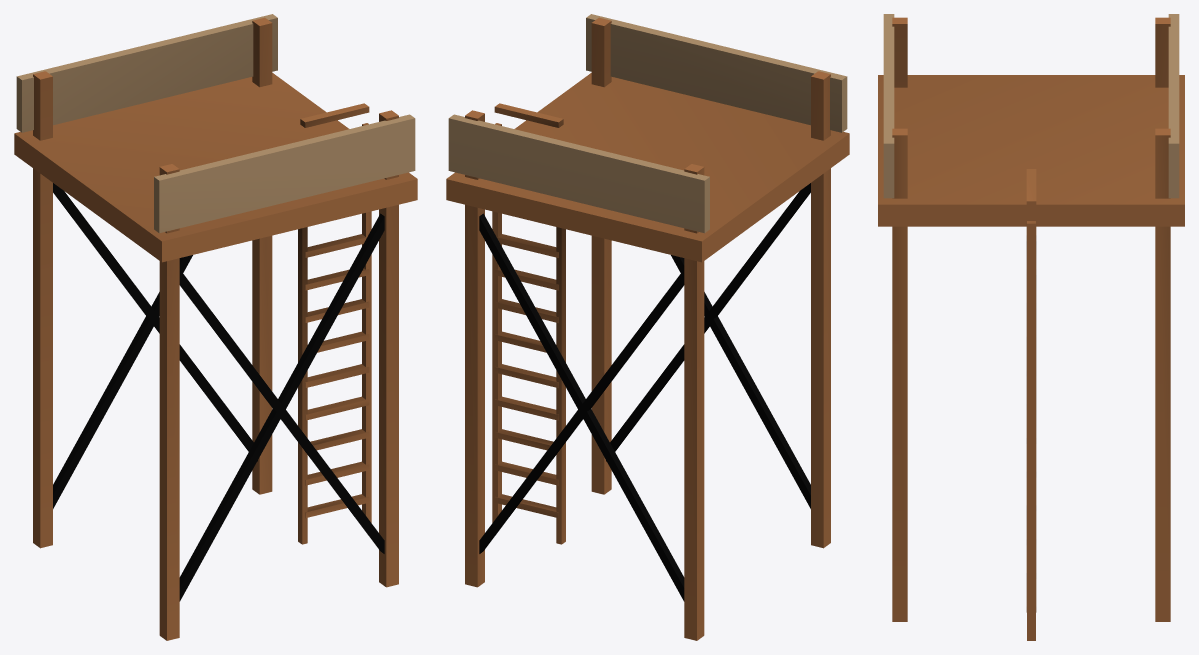
File: kit.guard-tower.lod1.glb
3 views of the same model, side by side, from view 1: azimuth 30°, elevation 25°; view 2: azimuth 150°, elevation 25°; view 3: azimuth 270°, elevation 25° (orthographic). The views are drawn at different scales.
Parts seen in each view (by area): view 1: body; view 2: body; view 3: body.
Part boxes in pixels (x1,y1,x2,y2): body: (14,14,417,640); body: (446,14,849,640); body: (878,14,1184,640).
Bounding box in the file's own units: 3.08 × 4.9 × 2.8.
